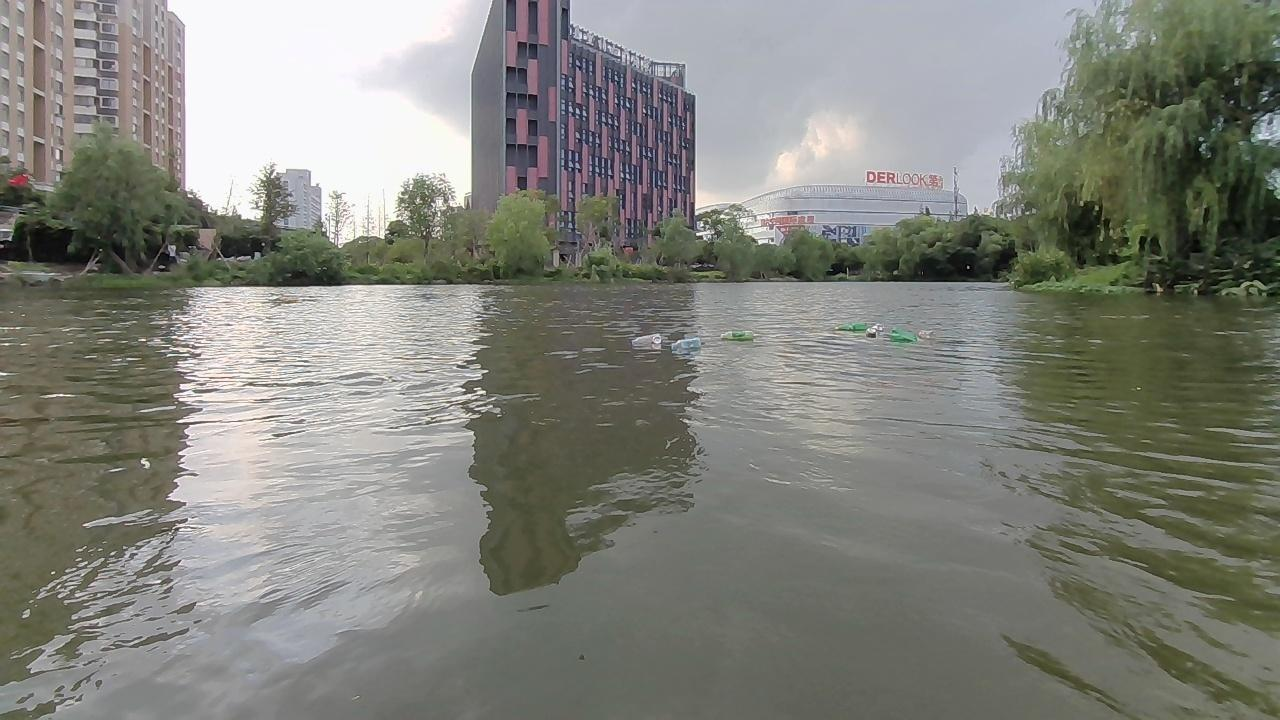bottle: (885, 327, 921, 346), (627, 333, 663, 347), (720, 328, 755, 342), (831, 321, 866, 334), (671, 337, 702, 351), (854, 323, 875, 340), (916, 328, 935, 338)
